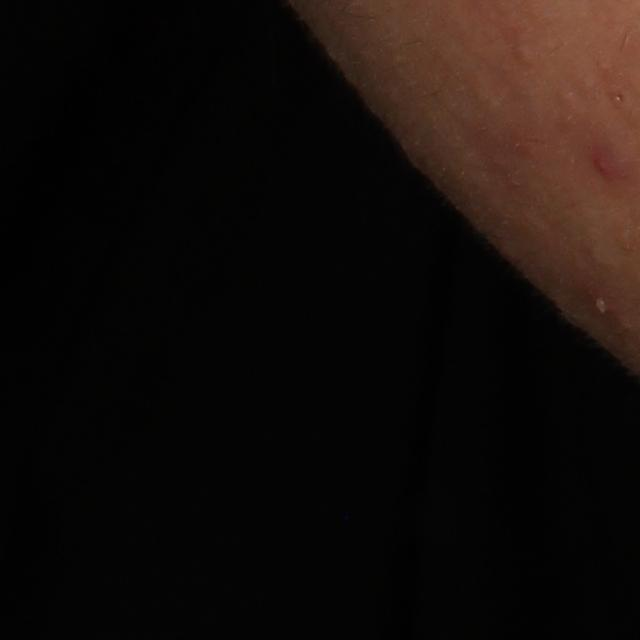papule: (594, 155, 617, 182)
